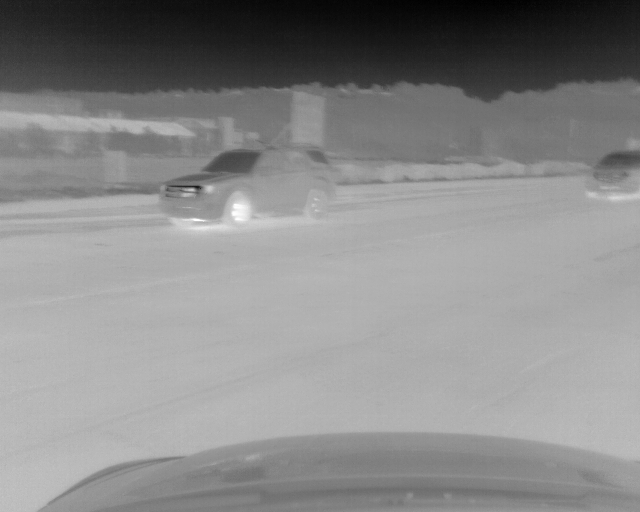car: (159, 146, 335, 227), (583, 150, 640, 201)
